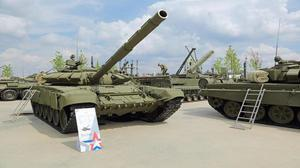t72: (34, 10, 185, 119)
